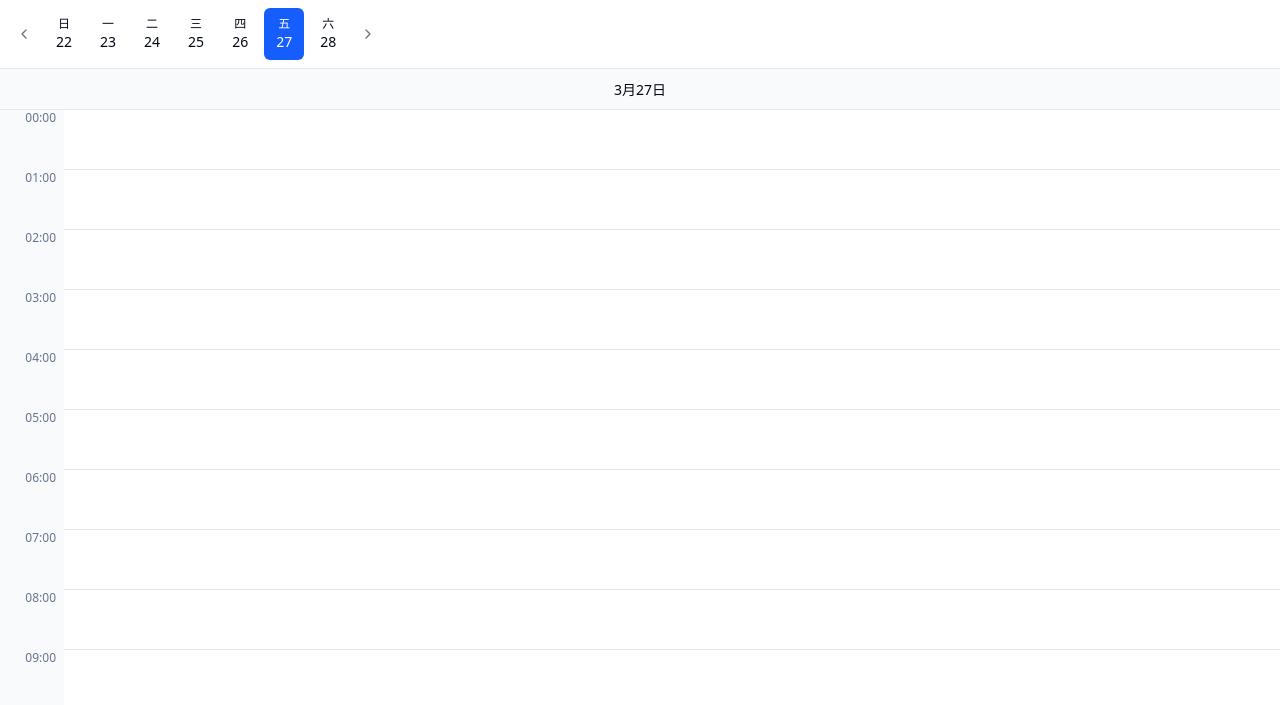
it: WeekView (Refactored - Single Day Mode) › date navigation › clicking a date in WeekDateNav updates the displayed content
The width and height of the screenshot is (1280, 705).
Click the button "六 28".
click(328, 34)  # box [308,8,348,60]
(page scrolled)
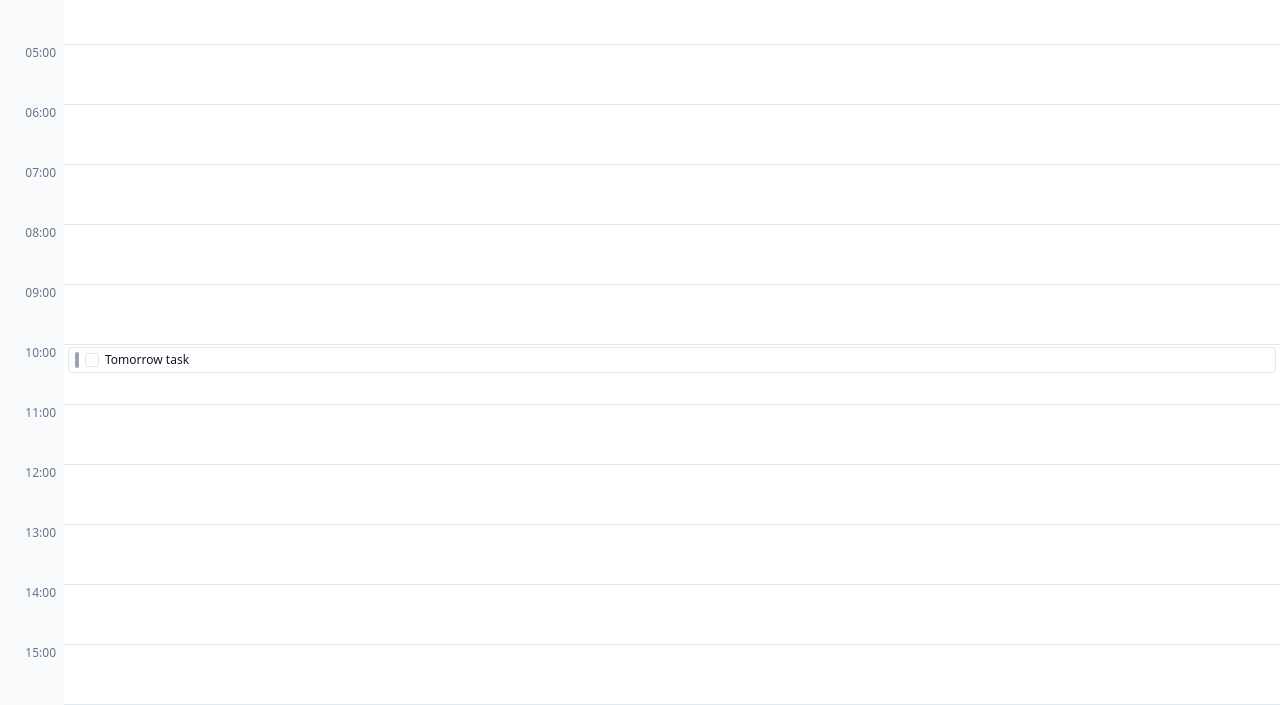
Expected: the text "Tomorrow task" is shown, [105,351,189,368]
